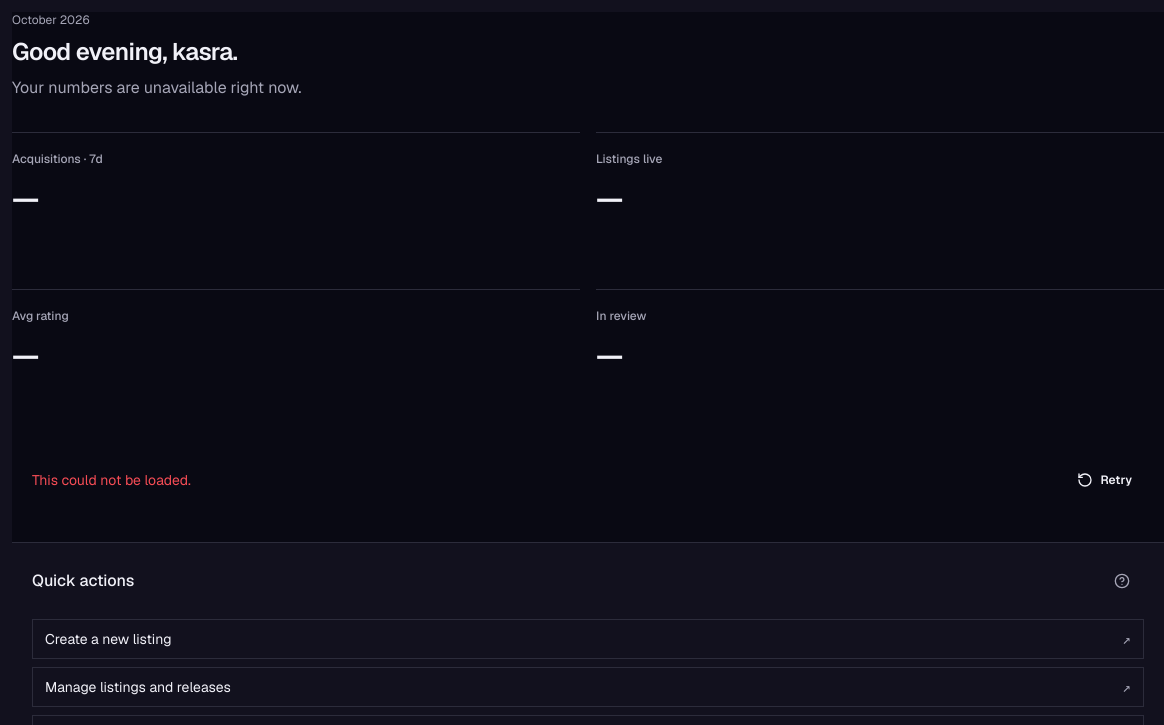
Test: DashboardOverview › shows one shared error and recovers both data panels on retry
Expected: the number of messages is 1, [32,470,191,490]
Expected: the text "Your numbers are unavailable right now." is shown, [12,77,301,98]
Click the button "Retry" at (1104, 480), box [1064,462,1144,498]
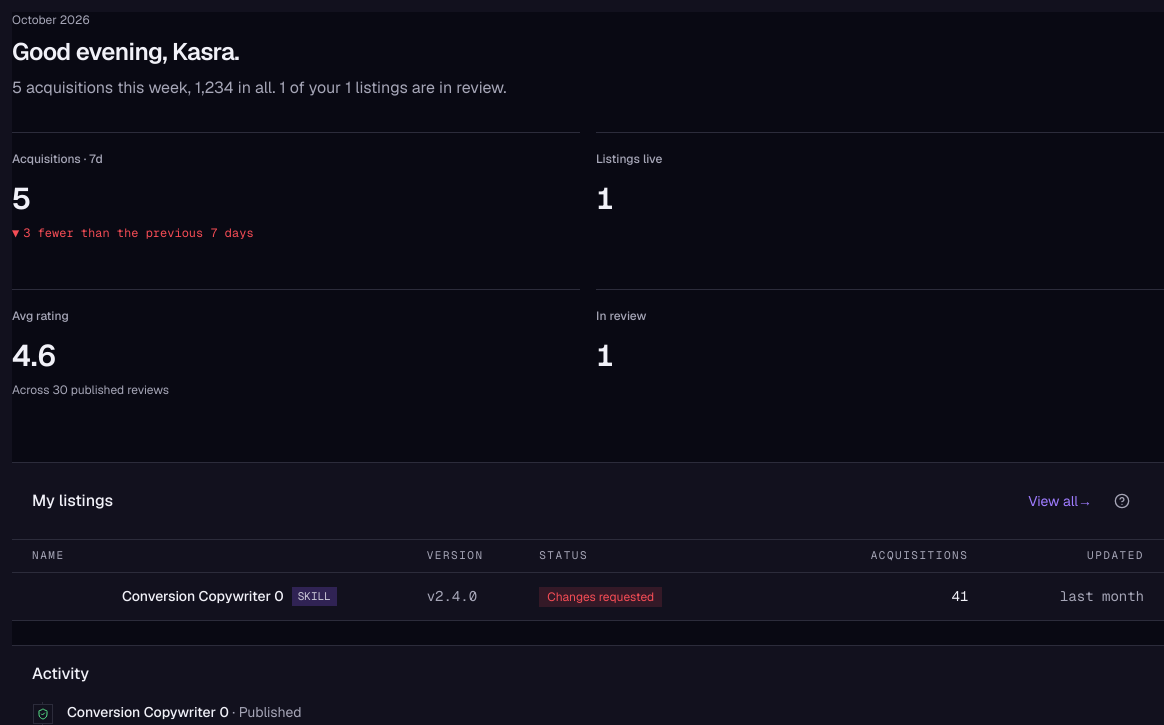
Expected: the table is shown, [12,539,1163,620]
Expected: the message "This could not be loaded." is gone
